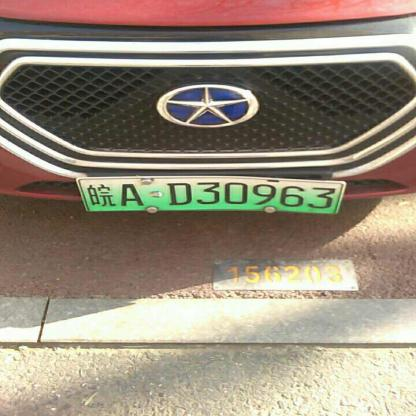lp: (77, 178, 344, 213)
